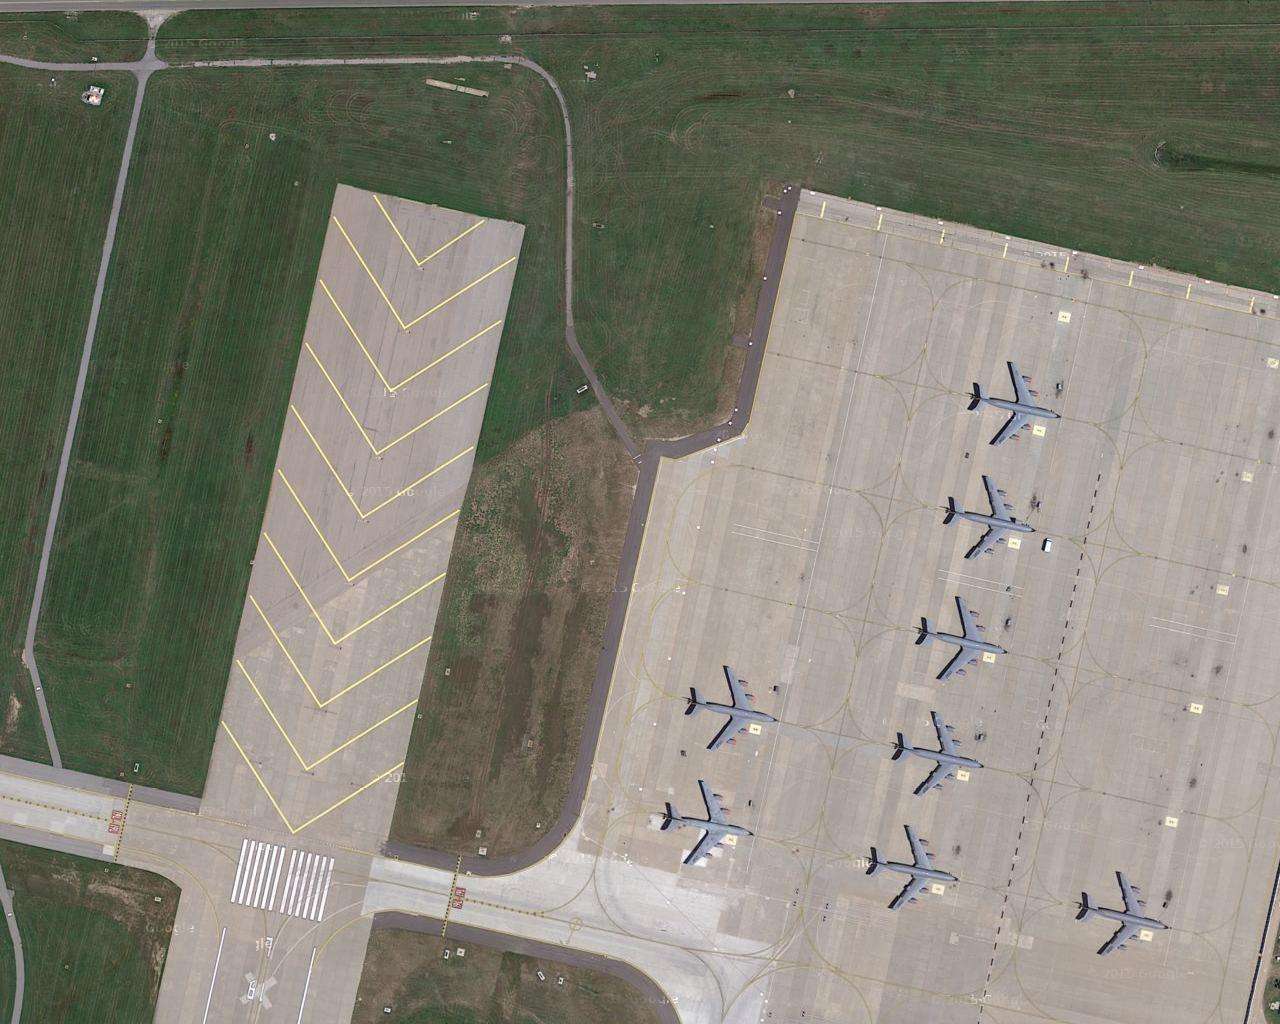KC-135: (674, 656, 781, 758), (653, 771, 757, 871), (1073, 864, 1176, 962), (962, 355, 1067, 451), (858, 818, 959, 916), (885, 707, 991, 800), (911, 588, 1010, 686), (936, 466, 1037, 560)
